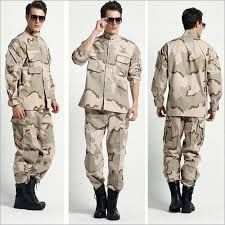uniform: (77, 28, 135, 199), (157, 32, 216, 191), (4, 30, 55, 192)
